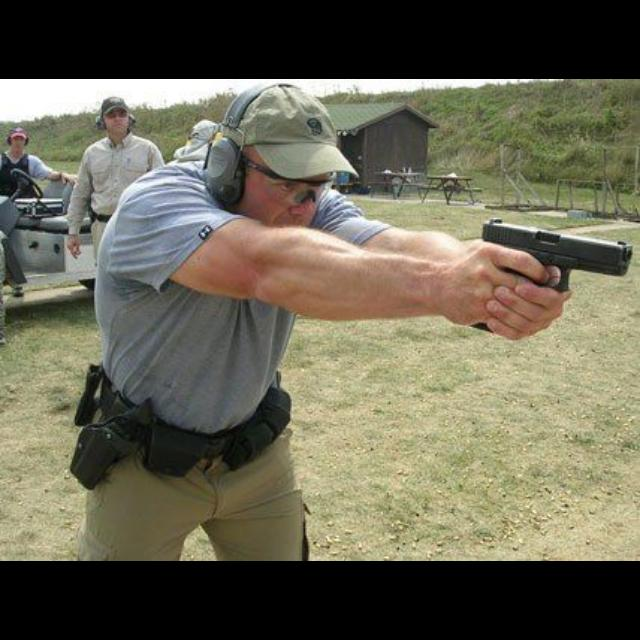handgun: (466, 215, 640, 295)
